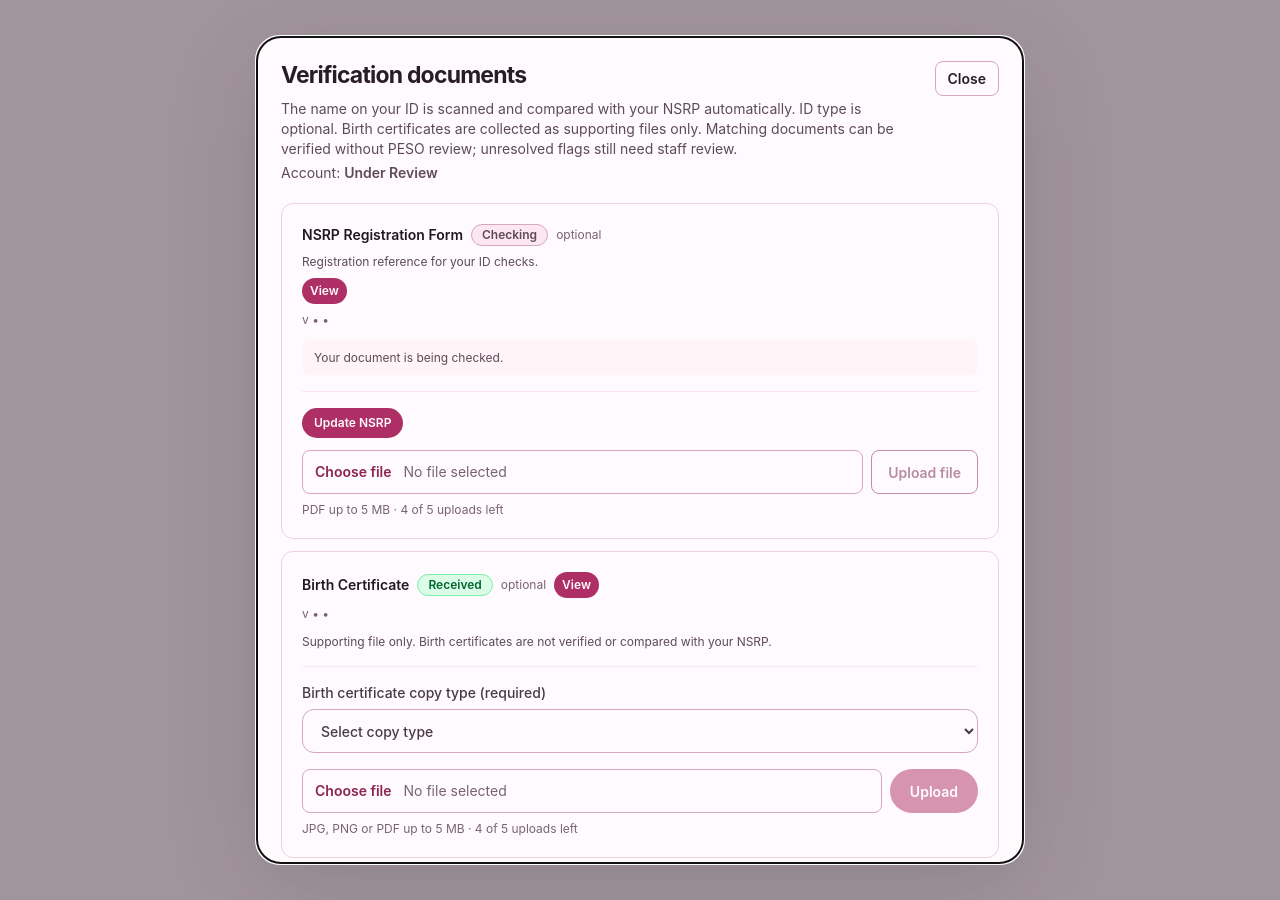
Test case: MyDocumentsModal file viewers › lets under-review applicants edit pending NSRP details and replace pending documents
Expected: the button "Upload" is shown, [890, 769, 978, 813]
Expected: the dropdown labelled "Birth certificate copy type (required)" is shown, [302, 709, 978, 753]
What coordinates should you click on to do the following:
click the button "Update NSRP"
I would click on:
 (353, 423)
Its box is [302, 408, 403, 438].
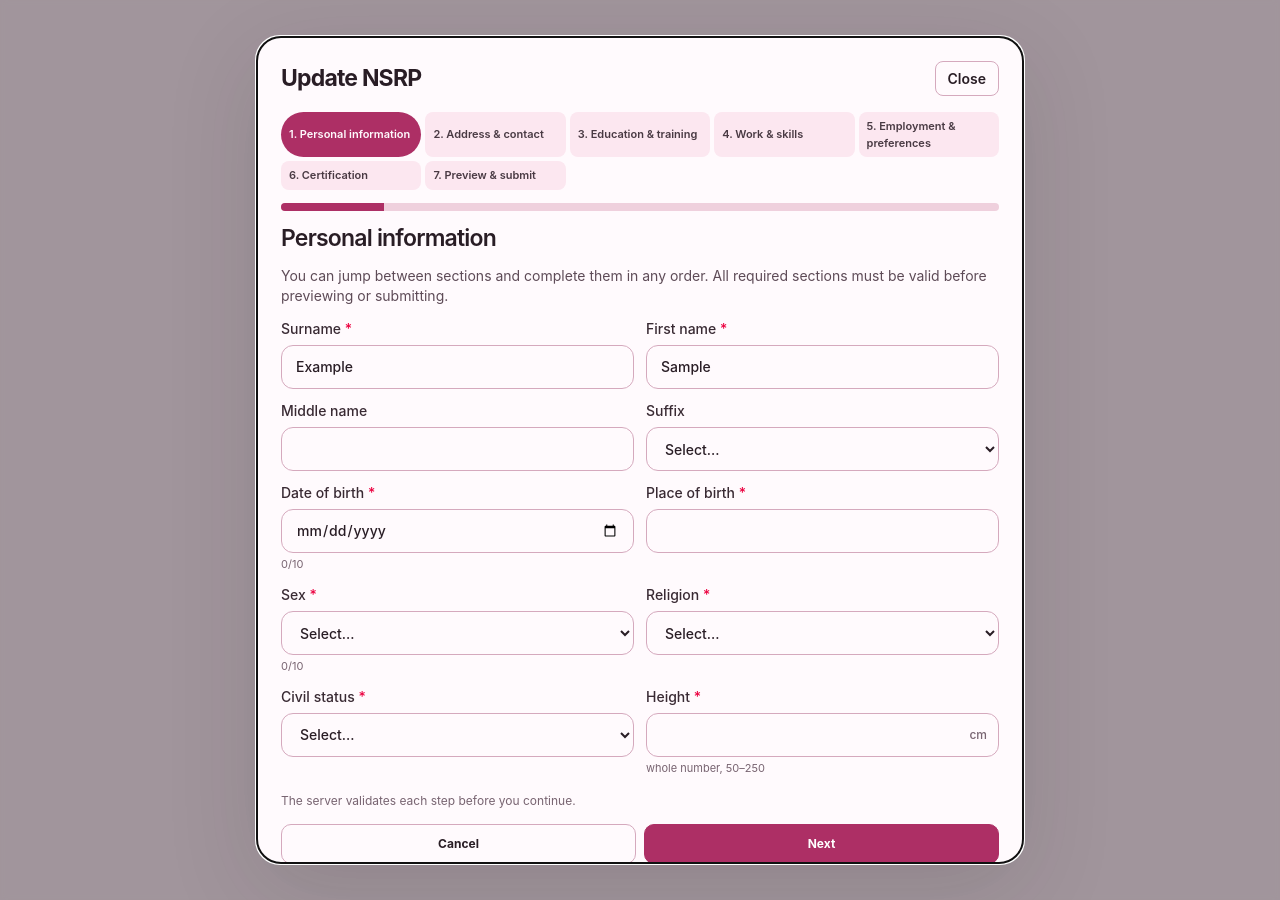
Now the heading "Update NSRP" is shown, box [281, 64, 421, 93]
Now the field labelled "Surname *" holds "Example", box [281, 345, 634, 389]
